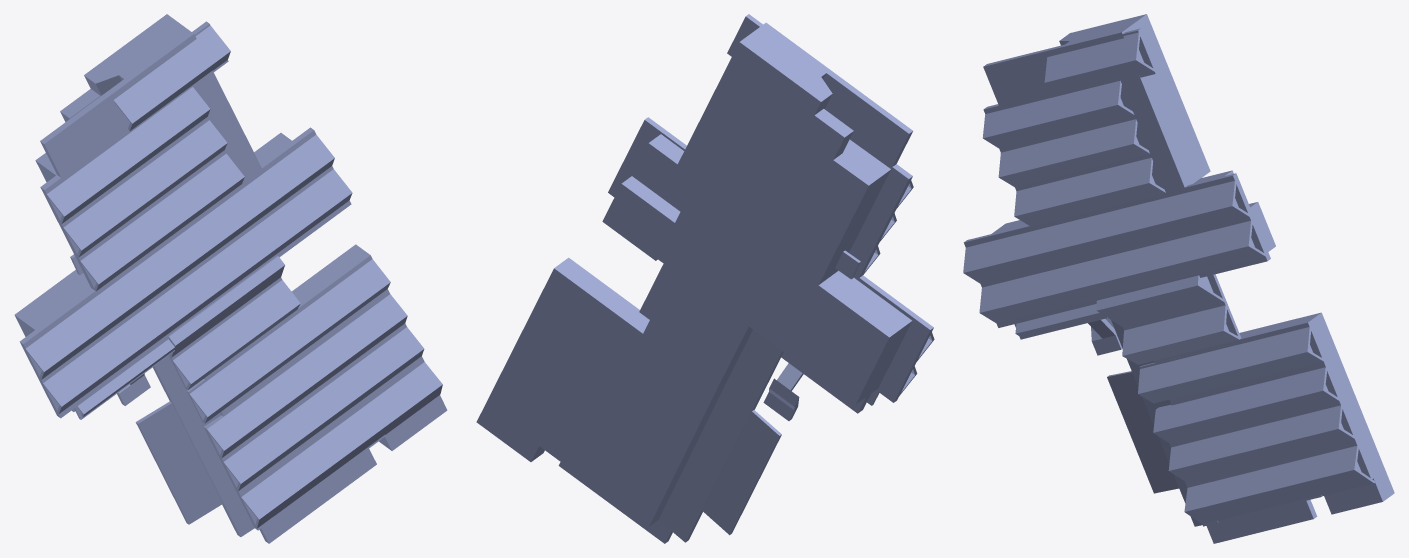
File: raffles-hall2.glb
3 views of the same model, side by side, from view 1: azimuth 30°, elevation 25°; view 2: azimuth 150°, elevation 25°; view 3: azimuth 330°, elevation 25° (orthographic). The views are drawn at different scales.
Parts seen in each view (by area): view 1: Raffles Hall Community Hall; view 2: Raffles Hall Community Hall; view 3: Raffles Hall Community Hall.
Part boxes in pixels (x1,y1,x2,y2): Raffles Hall Community Hall: [14, 14, 447, 543]; Raffles Hall Community Hall: [476, 14, 934, 543]; Raffles Hall Community Hall: [963, 14, 1394, 543].
Size of the model in its own units: 59.17 by 70.34 by 8.87.
